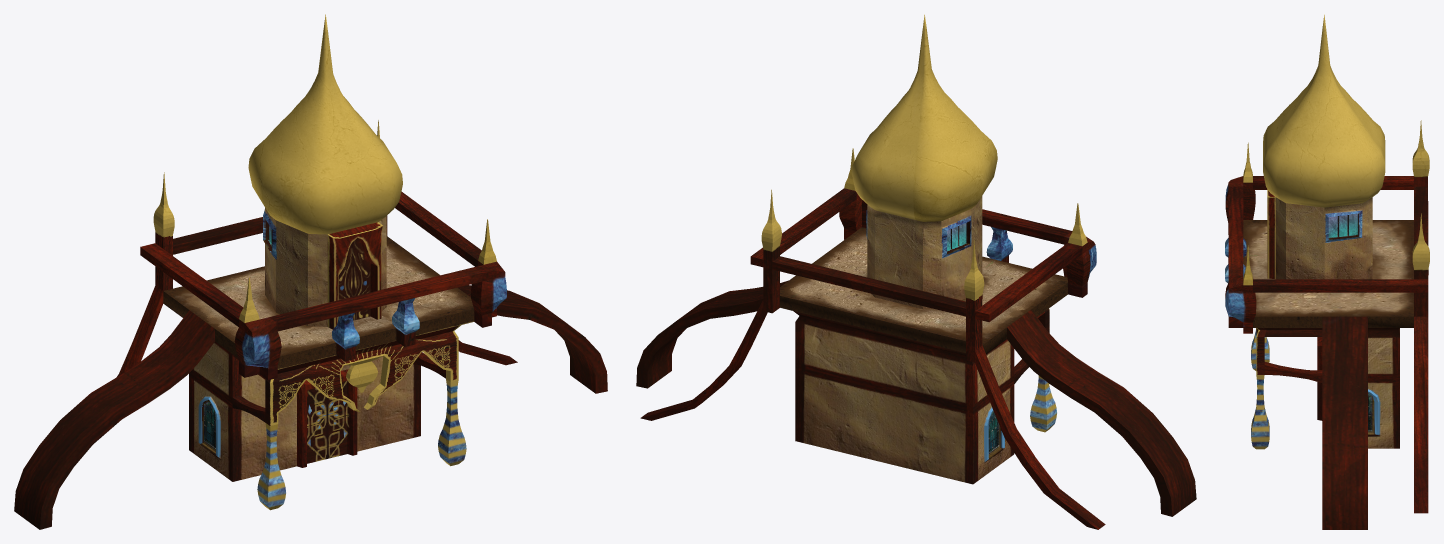
File: PalaceExport.FBX
3 views of the same model, side by side, from view 1: azimuth 30°, elevation 25°; view 2: azimuth 150°, elevation 25°; view 3: azimuth 270°, elevation 25° (orthographic). The views are drawn at different scales.
Visible parts, largest first — view 1: Box01; view 2: Box01; view 3: Box01.
Boxes of the visible parts, x1,y1,x2,y2 form: Box01: (14, 14, 607, 529); Box01: (636, 14, 1196, 529); Box01: (1225, 14, 1429, 529).
Bounding box in the file's own units: 303 × 227 × 107.
